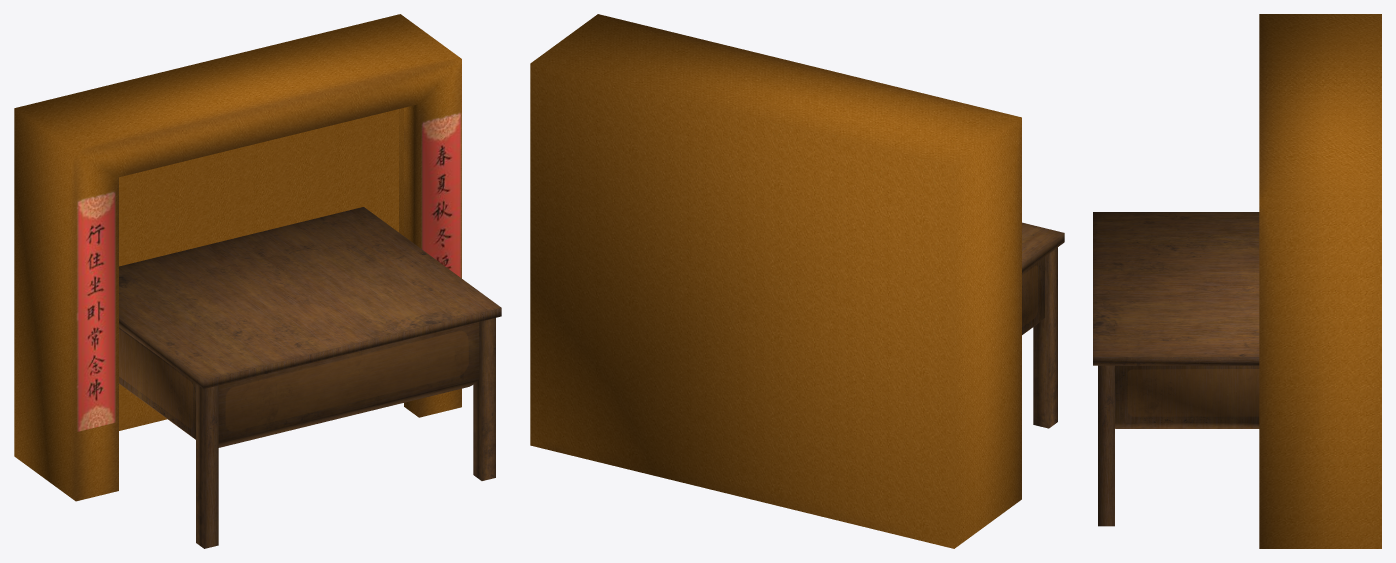
Rendered from Table_17.FBX.
3 views of the same model, side by side, from view 1: azimuth 30°, elevation 25°; view 2: azimuth 150°, elevation 25°; view 3: azimuth 270°, elevation 25° (orthographic). The views are drawn at different scales.
Visible parts, largest first — view 1: Table_17; view 2: Table_17; view 3: Table_17.
Part boxes in pixels (x1,y1,x2,y2): Table_17: (14, 14, 501, 548); Table_17: (530, 14, 1064, 548); Table_17: (1093, 14, 1381, 548).
Size of the model in its own units: 80.71 by 69.55 by 52.43.
